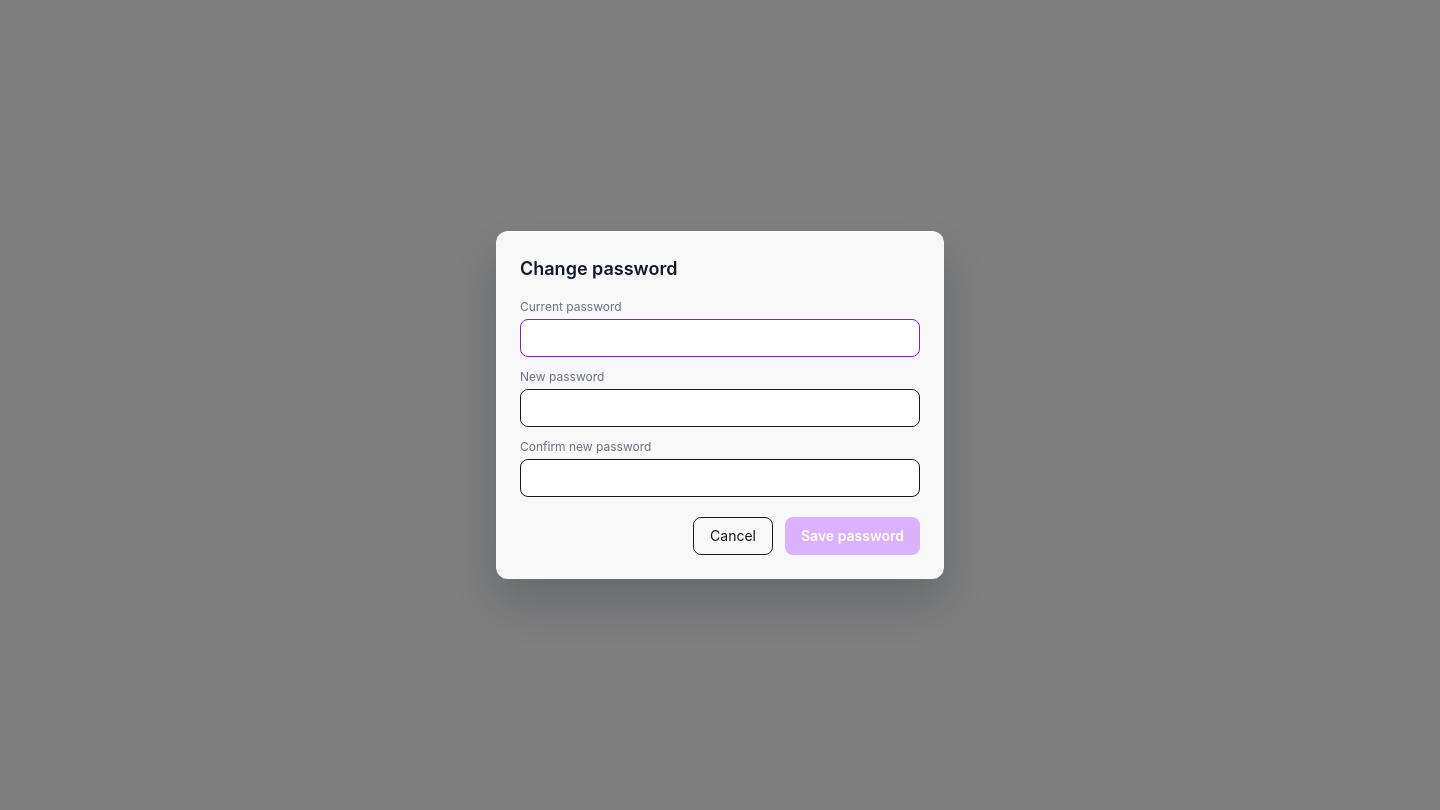
Test: ChangePasswordModal › shows error when API responds with failure
Type "current123" into the password field labelled "Current password".
click(720, 338); type("current123")  # box [520,319,920,357]
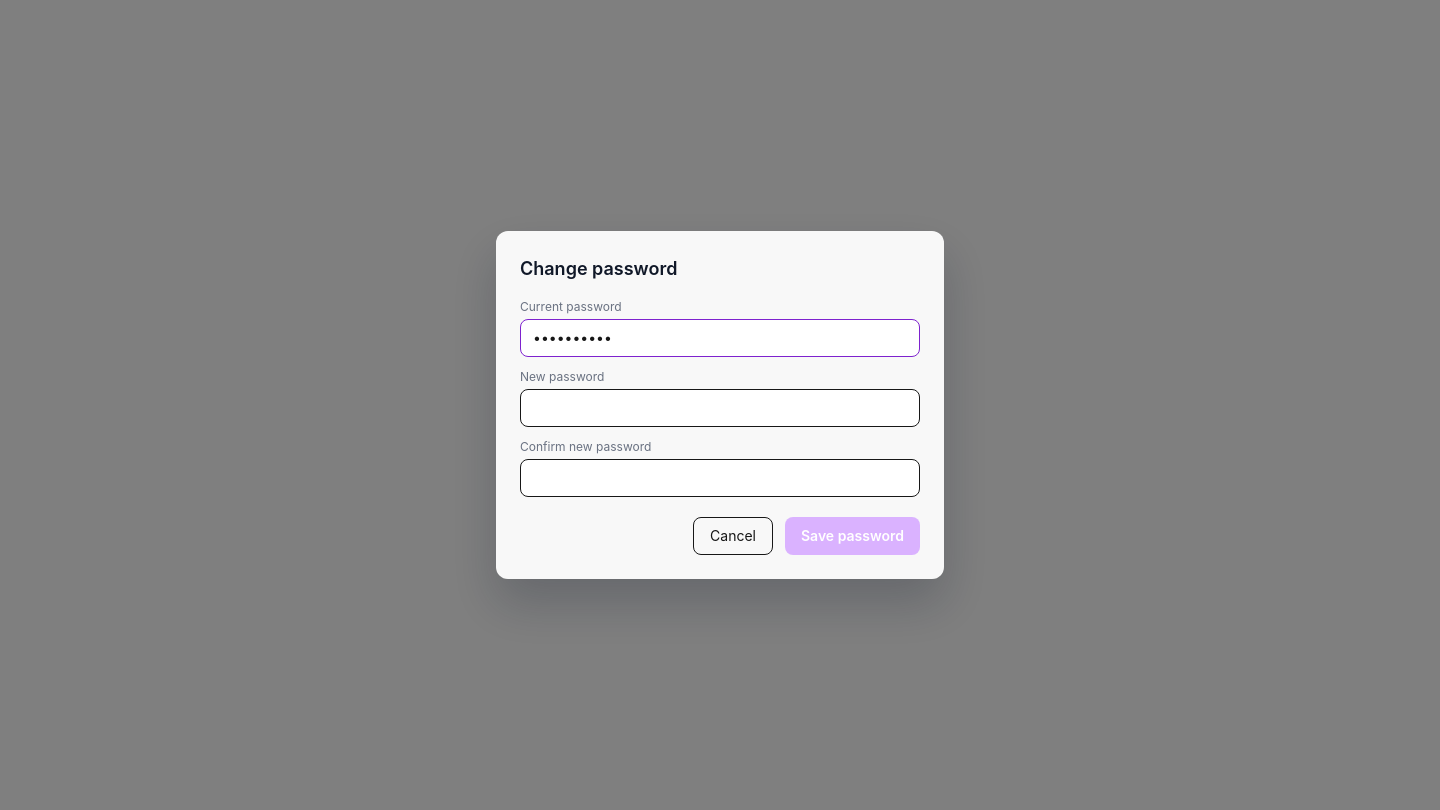
Type "newpassword" into the password field labelled "New password".
click(720, 408); type("newpassword")  # box [520,389,920,427]
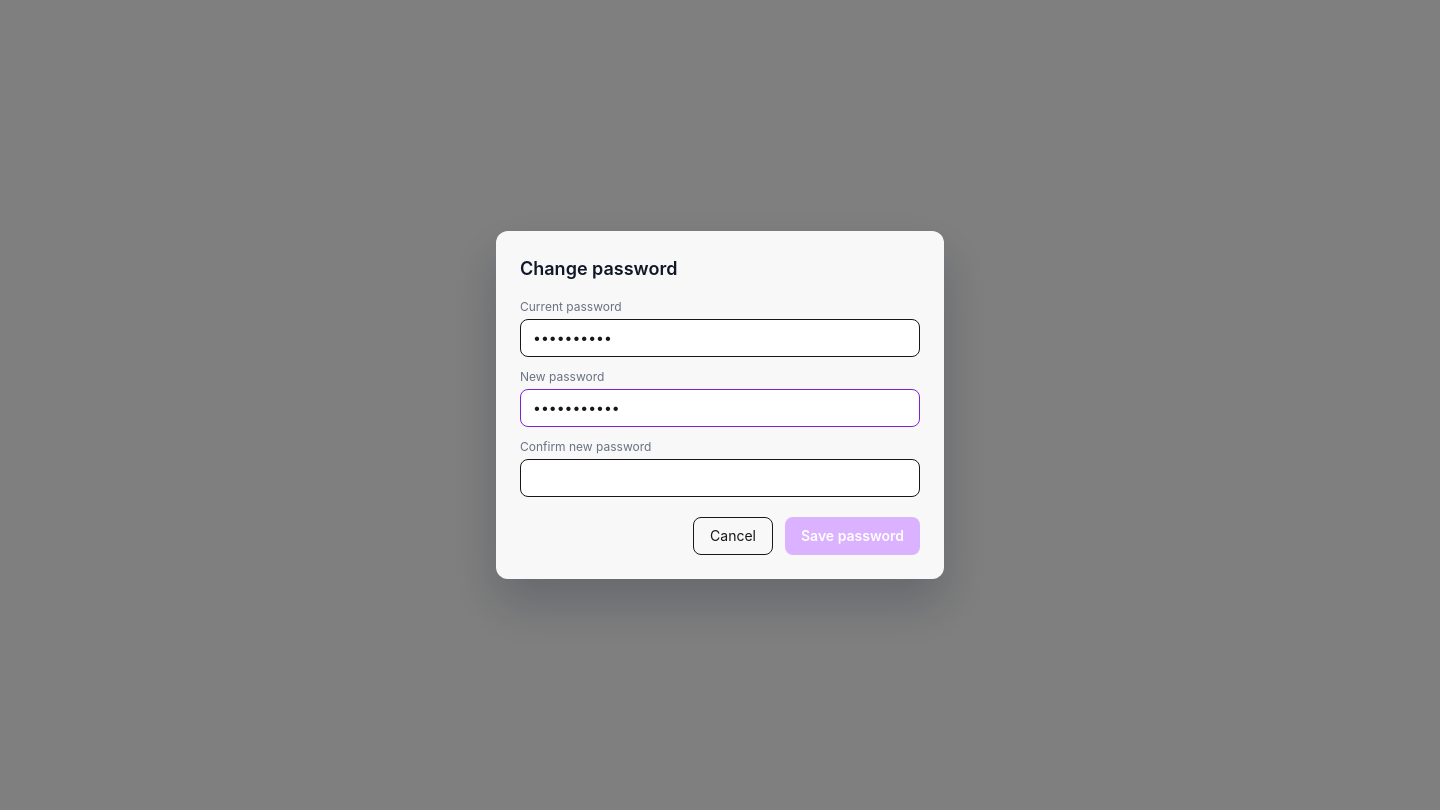
Type "newpassword" into the password field labelled "Confirm new password".
click(720, 478); type("newpassword")  # box [520,459,920,497]
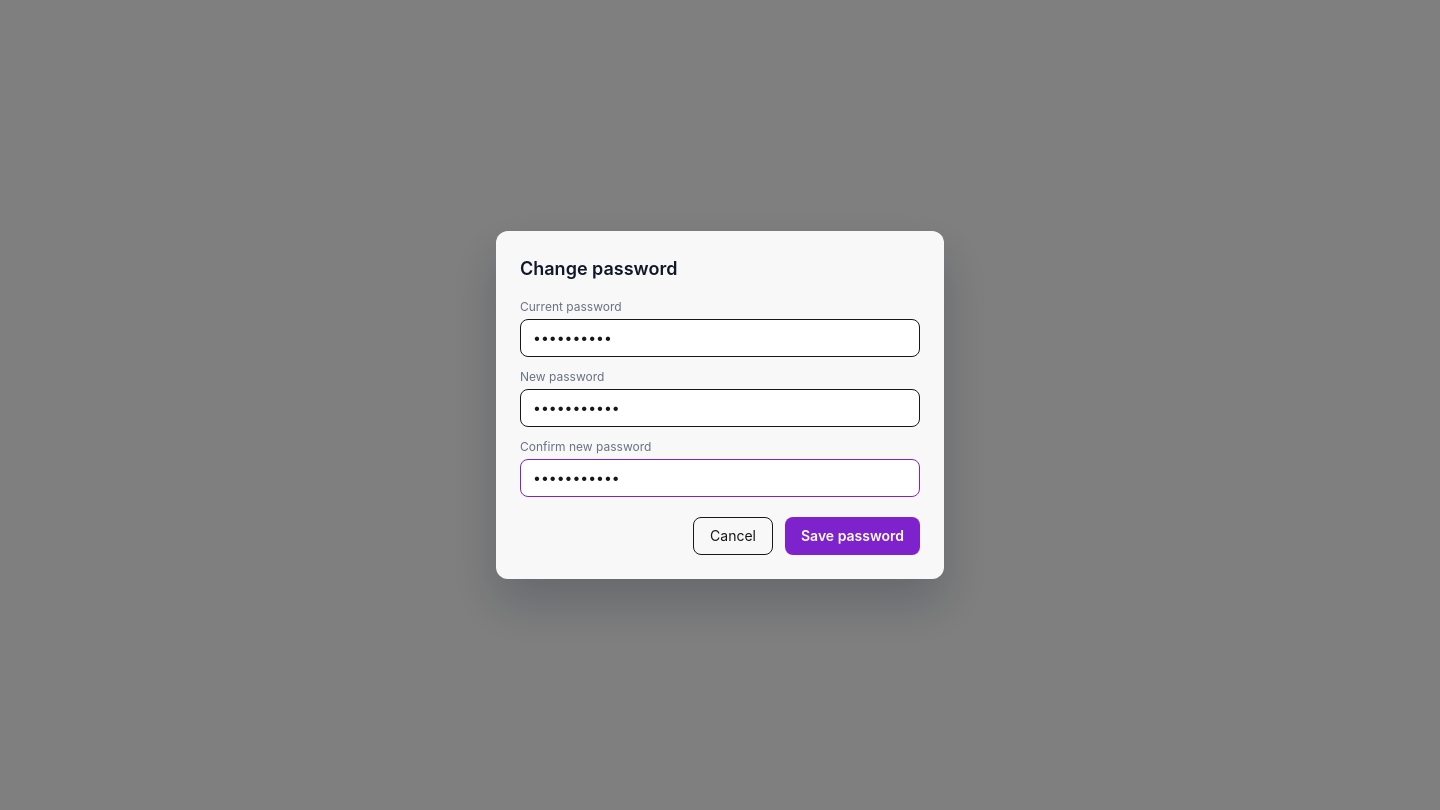
Click the button "Save password".
click(852, 536)  # box [785,517,920,555]
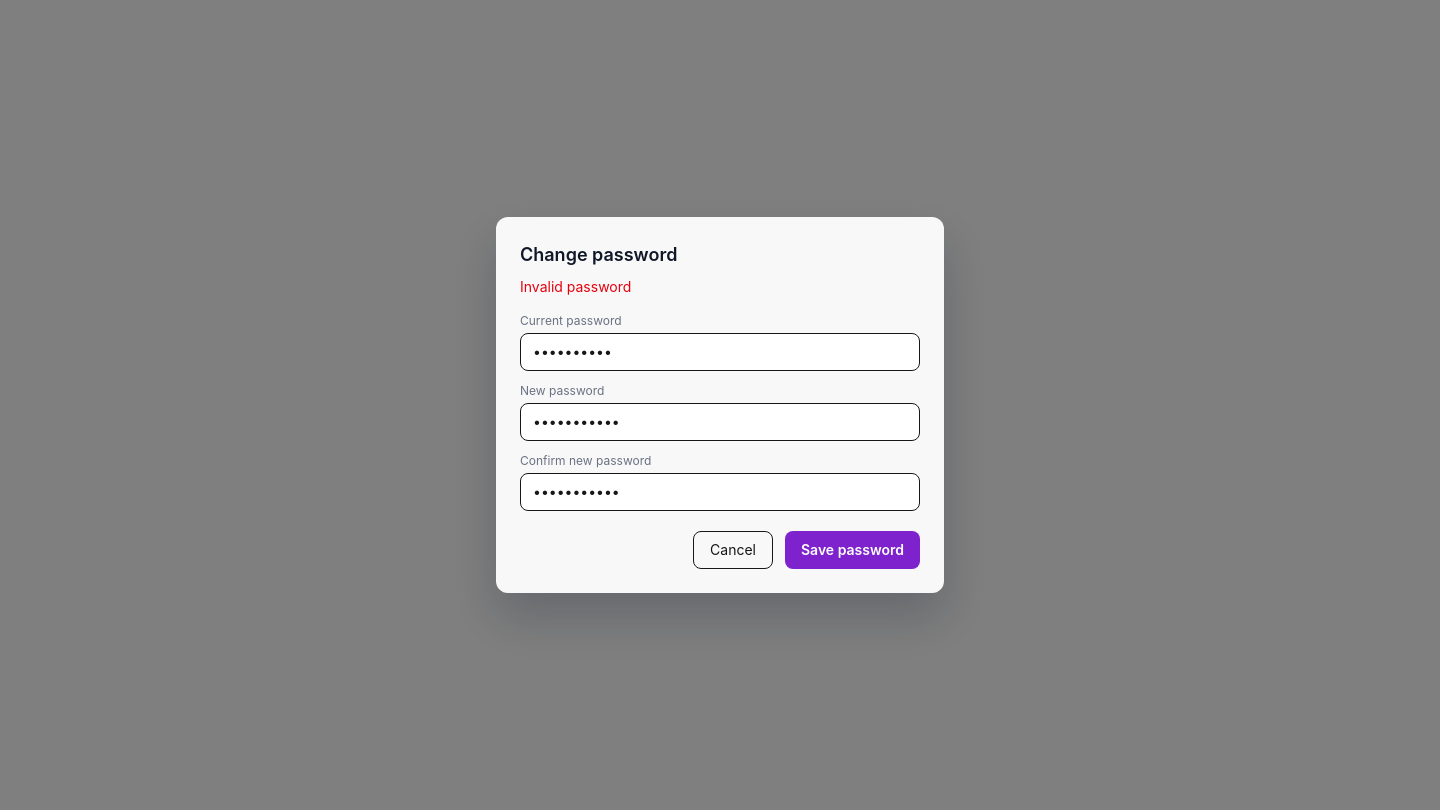
Expected: the message reads "Invalid password", [520,278,631,295]
